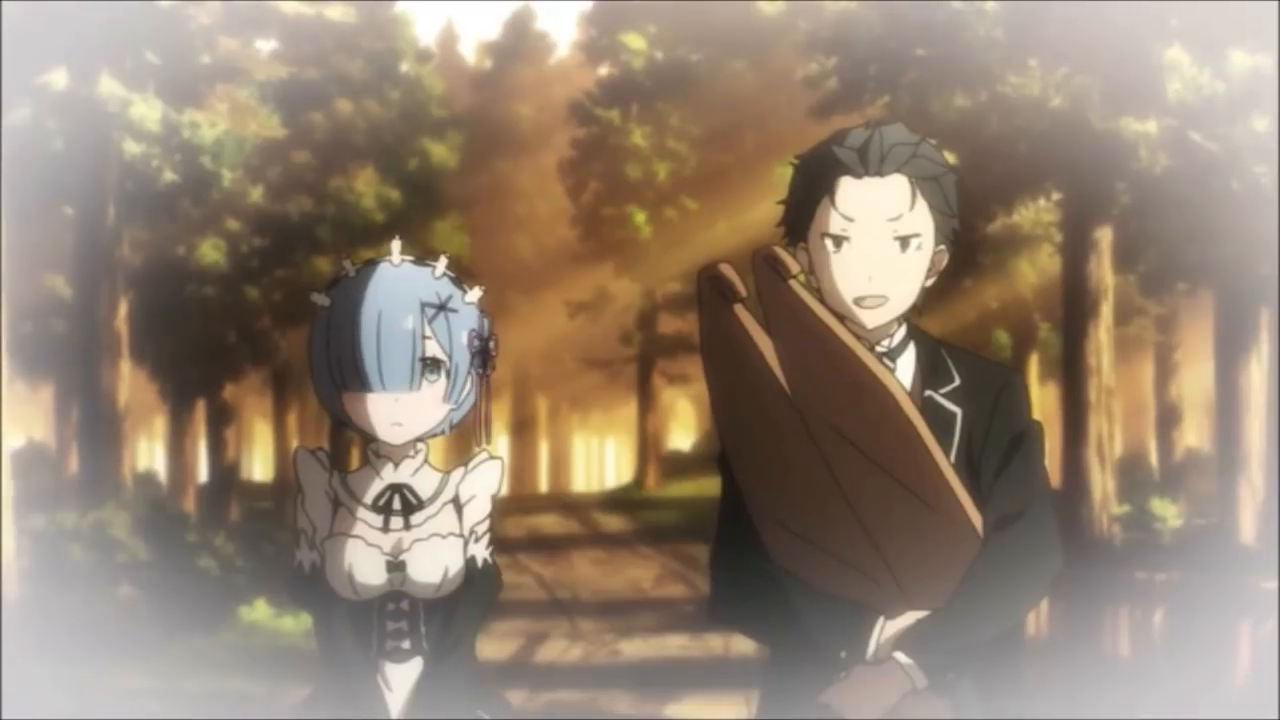REM: (302, 252, 499, 450)
